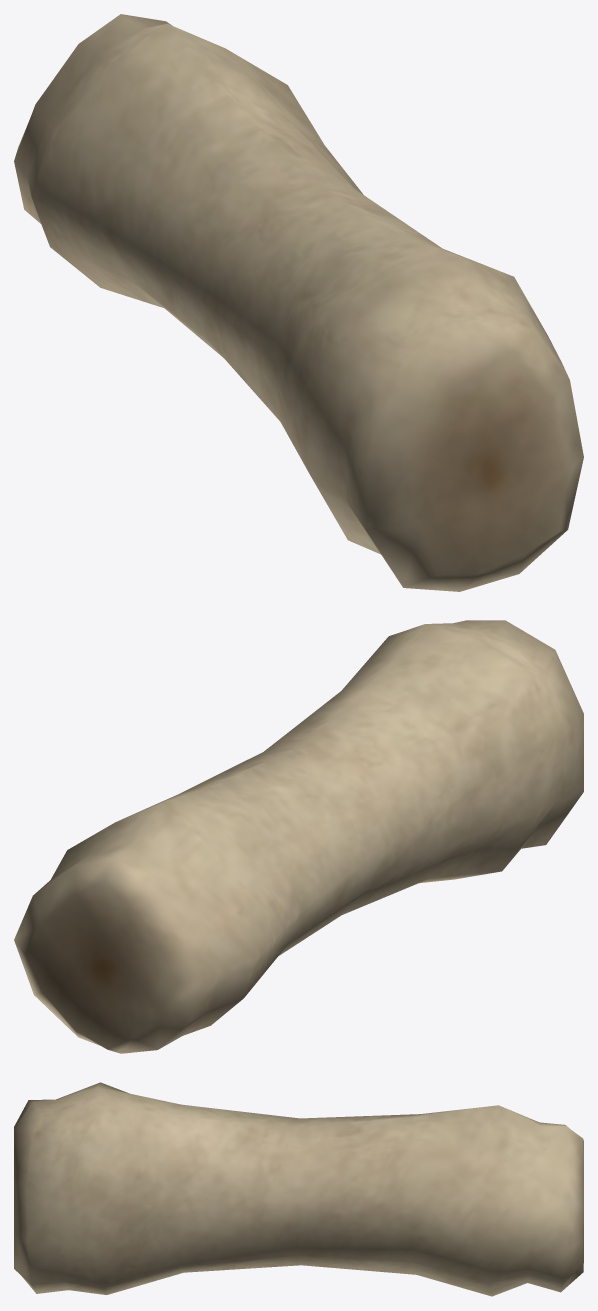
The model's file is Caudal_Vertebrae11.glb.
The picture shows the model from 3 angles, top to bottom: view 1: azimuth 30°, elevation 25°; view 2: azimuth 150°, elevation 25°; view 3: azimuth 270°, elevation 25°; orthographic projection. The views are drawn at different scales.
Parts seen in each view (by area): view 1: Caudal_Vertebrae_30:Group63860; view 2: Caudal_Vertebrae_30:Group63860; view 3: Caudal_Vertebrae_30:Group63860.
Part boxes in pixels (x1,y1,x2,y2): Caudal_Vertebrae_30:Group63860: (14,14,583,591); Caudal_Vertebrae_30:Group63860: (14,620,583,1053); Caudal_Vertebrae_30:Group63860: (14,1082,583,1296).
Bounding box in the file's own units: 7.4 × 7.03 × 18.76.
Materials: 1 (1 with a texture image).
